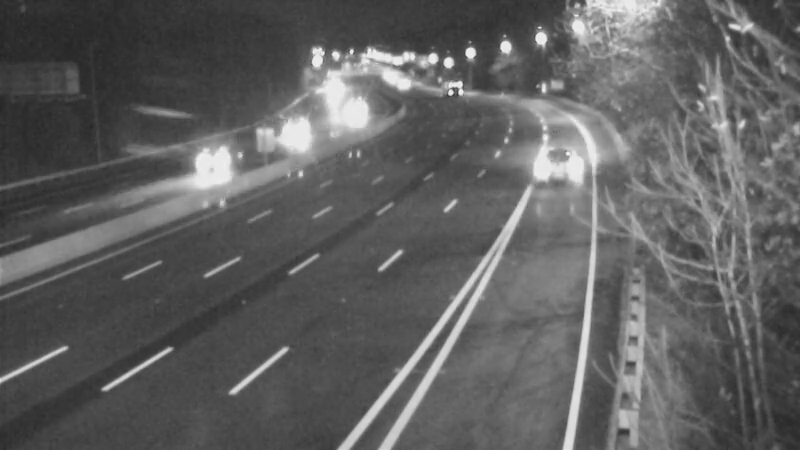vehicle: (519, 126, 599, 206), (170, 120, 250, 200), (425, 63, 475, 113), (377, 55, 427, 105), (270, 111, 320, 161), (329, 89, 379, 139)
